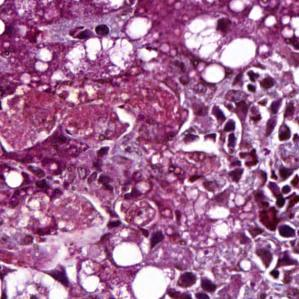ballooning: (63, 34, 136, 82), (181, 9, 240, 62)
